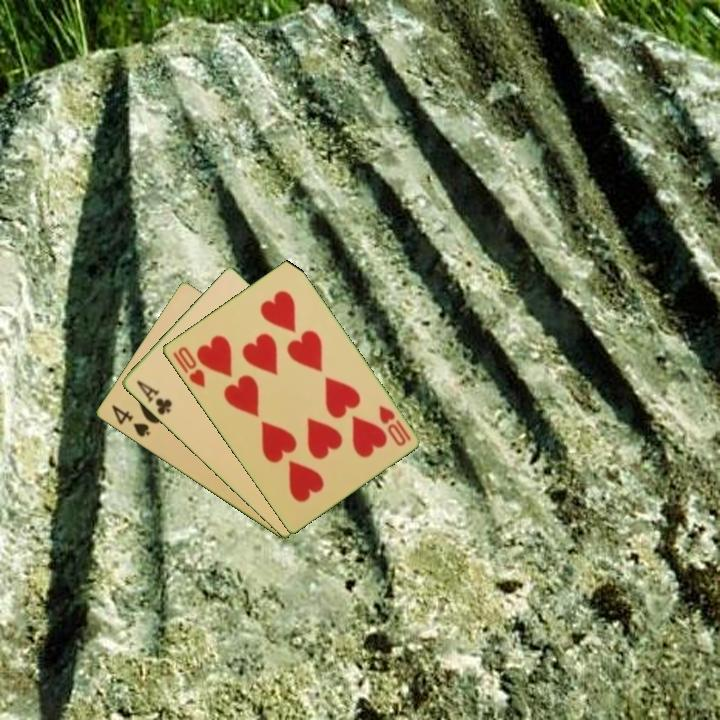10h: (374, 401, 414, 449), (169, 343, 208, 391)
4s: (107, 401, 153, 440)
Ac: (132, 377, 175, 418)
